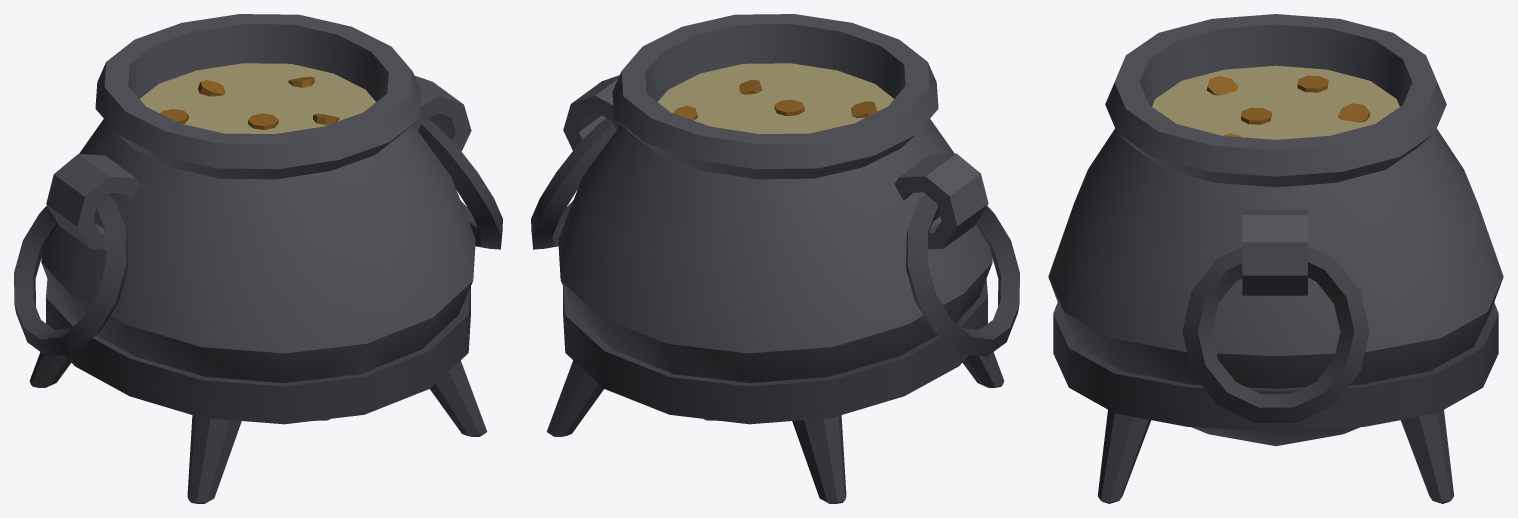
Rendered from Cauldron.glb.
3 views of the same model, side by side, from view 1: azimuth 30°, elevation 25°; view 2: azimuth 150°, elevation 25°; view 3: azimuth 270°, elevation 25° (orthographic). The views are drawn at different scales.
Parts seen in each view (by area): view 1: Cauldron; view 2: Cauldron; view 3: Cauldron.
Boxes of the visible parts, bbox=[...] form: Cauldron: bbox=[14, 14, 502, 503]; Cauldron: bbox=[531, 14, 1019, 503]; Cauldron: bbox=[1048, 14, 1503, 503].
Bounding box in the file's own units: 0.3607 × 0.2518 × 0.2988.
